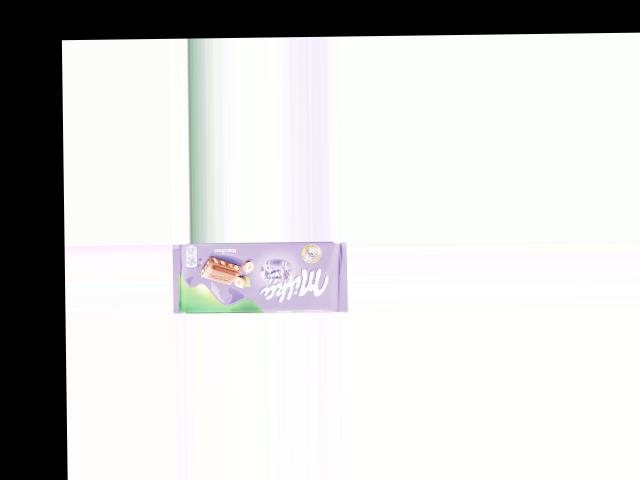chocolate: (171, 240, 347, 313)
